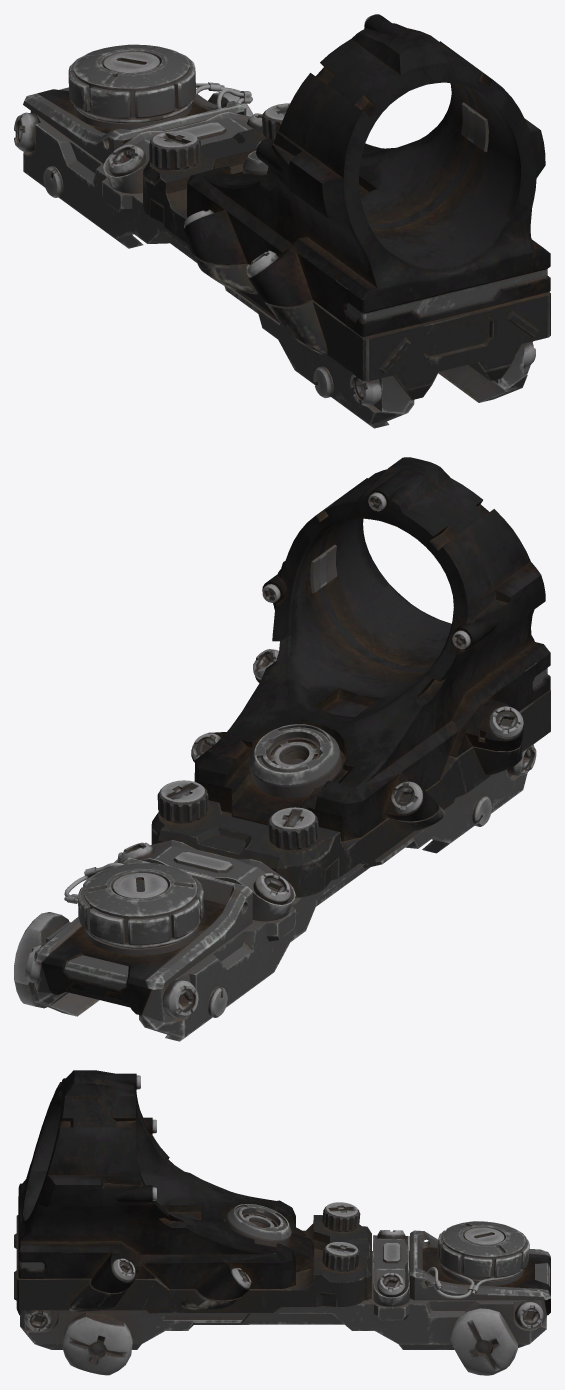
Rendered from Sight_6.glb.
3 views of the same model, one above another, from view 1: azimuth 30°, elevation 25°; view 2: azimuth 150°, elevation 25°; view 3: azimuth 270°, elevation 25° (orthographic). The views are drawn at different scales.
Parts seen in each view (by area): view 1: Sight_6; view 2: Sight_6; view 3: Sight_6.
Part boxes in pixels (left/top/right/bottom): Sight_6: left=14, top=14, right=550, bottom=428; Sight_6: left=14, top=457, right=550, bottom=1041; Sight_6: left=14, top=1070, right=550, bottom=1375.
Bounding box in the file's own units: 0.0476 × 0.0619 × 0.1138.
Materials: 1 (1 with a texture image).
